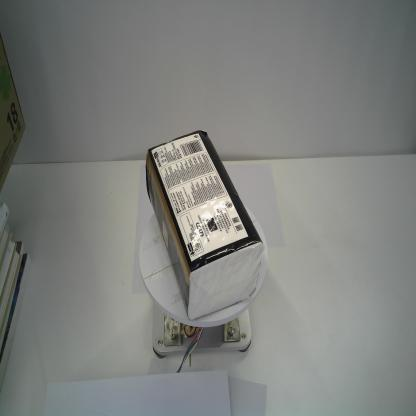Tissue: (144, 128, 265, 322)
